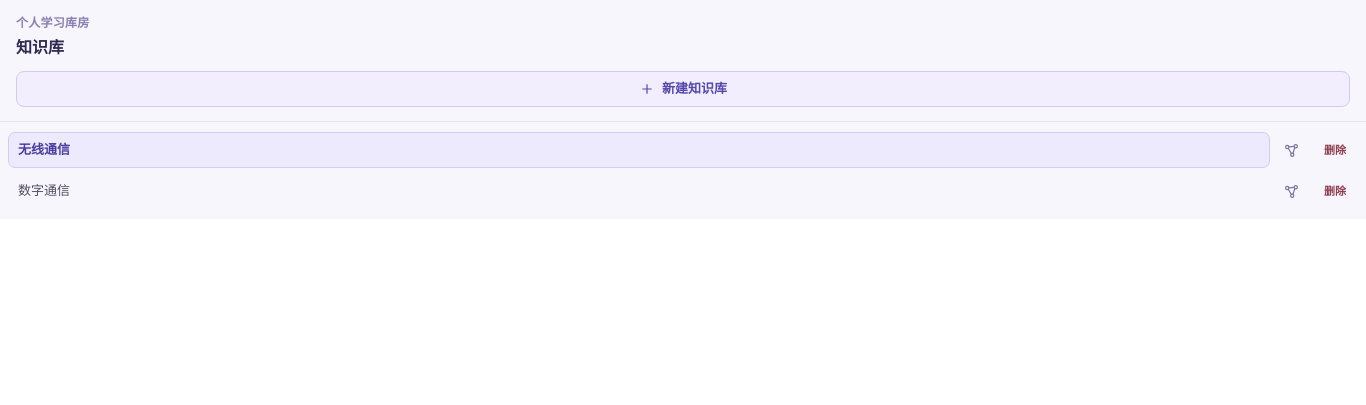
KnowledgeLibrarySidebar › requires an inline name confirmation before permanently deleting
The image size is (1366, 405).
Click the button with aria-label "删除无线通信": [1335, 150] box [1312,132,1358,168]
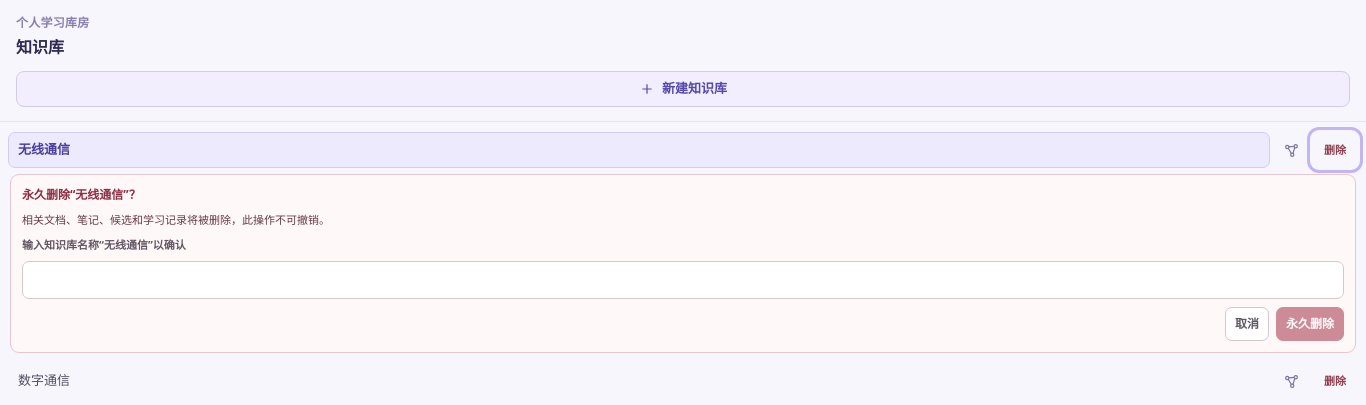
Expected: the form named "确认删除无线通信" shows "无线通信", [75,186,123,203]
Expected: the form named "确认删除无线通信" shows "不可撤销", [22,212,330,227]
Expected: the button with aria-label "永久删除无线通信" is disabled, [1276,307,1344,341]
In the field named "输入知识库名称无线通信以确认": [683, 280] box [22,261,1344,299], type "无线"
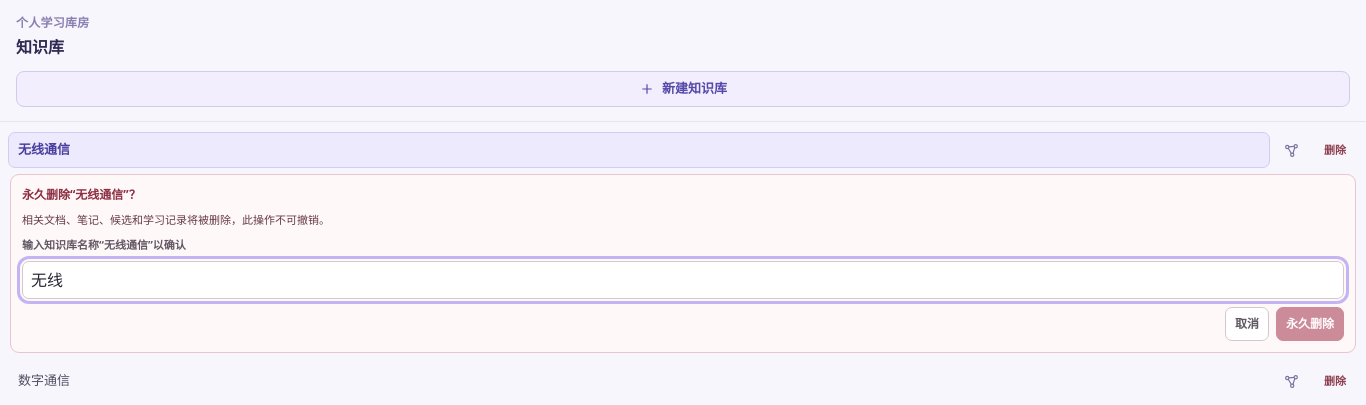
Expected: the button with aria-label "永久删除无线通信" is disabled, [1276,307,1344,341]
In the field named "输入知识库名称无线通信以确认": [683, 280] box [22,261,1344,299], type "通信"
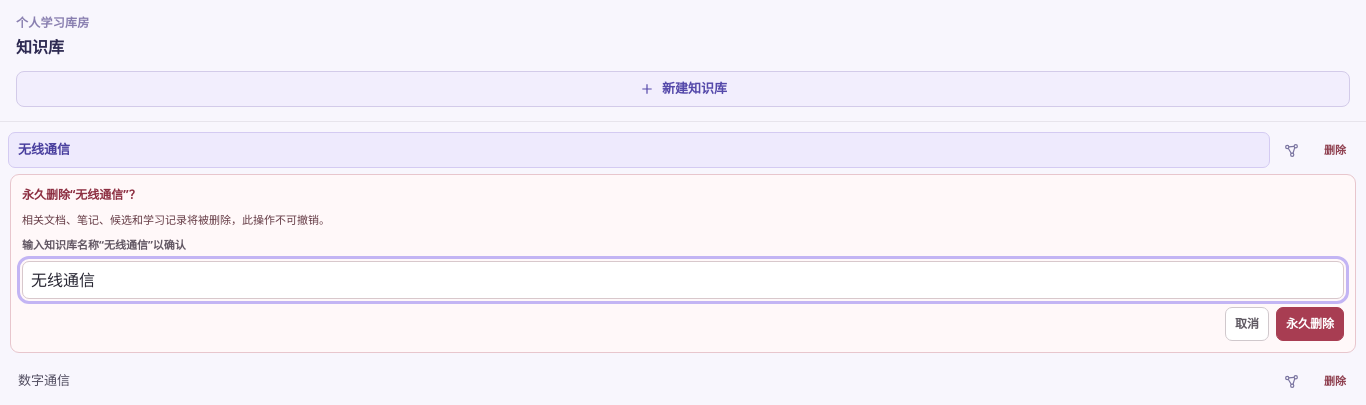
Expected: the button with aria-label "永久删除无线通信" is enabled
Click the button with aria-label "永久删除无线通信": [1310, 324] box [1276,307,1344,341]
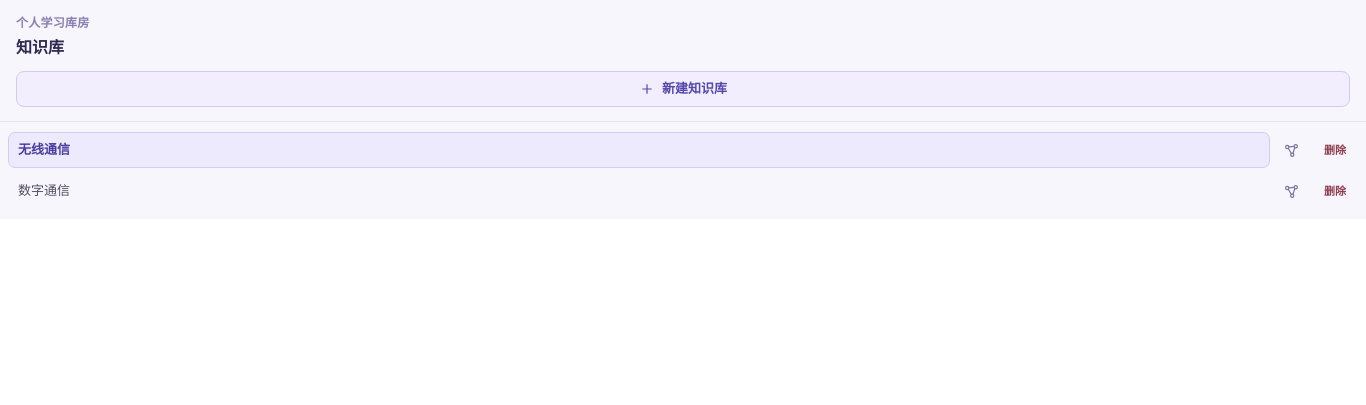
Expected: the form "确认删除无线通信" is gone
